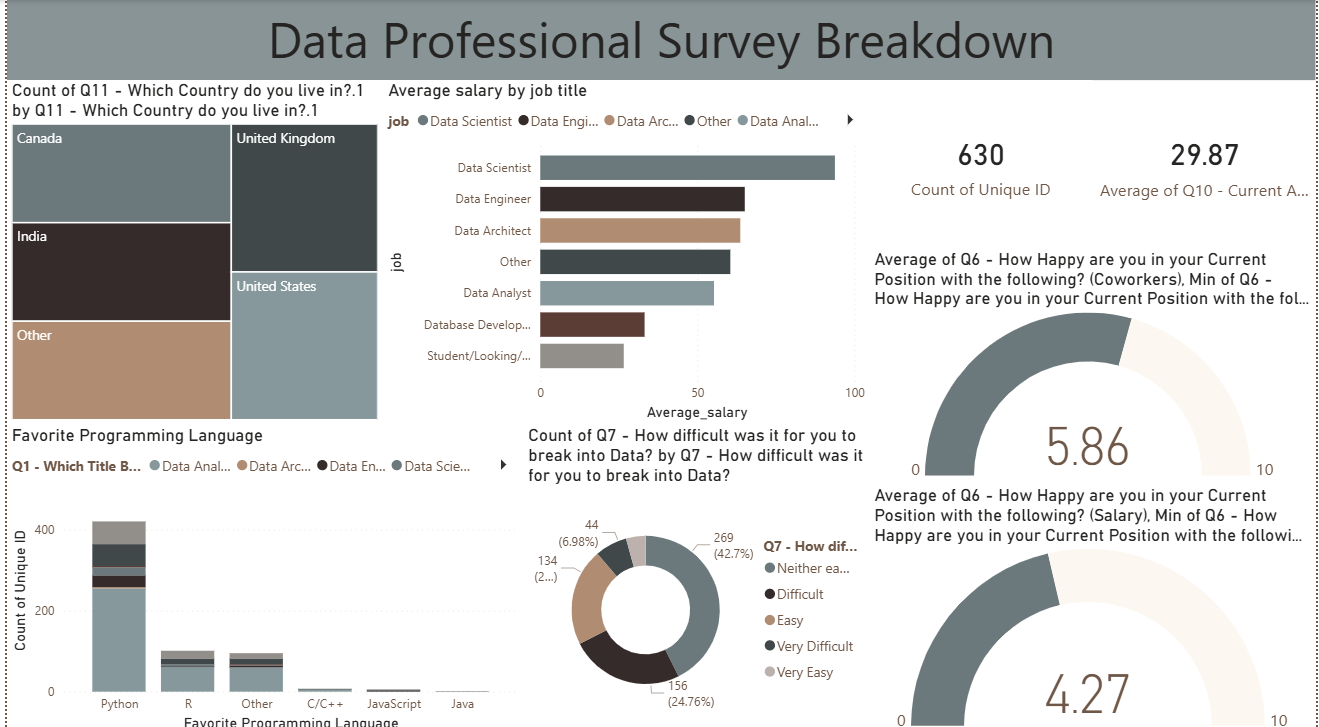

Layout of this report page (visuals, bound fields, positions):
{"tool":"powerbi","page":{"name":"Page 1","canvas":[1280,720],"ordinal":0},"visuals":[{"type":"textbox","box":[0,0,1280.3,78.3],"z":0},{"type":"card","fields":{"Values":["CountNonNull(Data Professional Survey.Unique ID)"]},"box":[843.9,78.2,218.2,164.7],"z":1000},{"type":"card","fields":{"Values":["Avg(Data Professional Survey.Q10 - Current Age)"]},"box":[1062.1,82.3,218.2,157.8],"z":2000},{"type":"barChart","title":"Average salary by job title","fields":{"Category":["Data Professional Survey.Q1 - Which Title Best Fits your Current Role?.1"],"Y":["Avg(Data Professional Survey.Average_salary)"],"Series":["Data Professional Survey.Q1 - Which Title Best Fits your Current Role?.1"]},"box":[367.8,78.2,476.2,337.6],"z":3000},{"type":"columnChart","title":"Favorite Programming Language","fields":{"Category":["Data Professional Survey.Q5 - Favorite Programming Language.1"],"Y":["CountNonNull(Data Professional Survey.Unique ID)"],"Series":["Data Professional Survey.Q1 - Which Title Best Fits your Current Role?.1"]},"box":[0,415.8,505,304.6],"z":4000},{"type":"treemap","fields":{"Group":["Data Professional Survey.Q11 - Which Country do you live in?.1"],"Values":["Count(Data Professional Survey.Q11 - Which Country do you live in?.1)"]},"box":[0,78.2,367.8,337.6],"z":5000},{"type":"gauge","fields":{"Y":["Avg(Data Professional Survey.Q6 - How Happy are you in your Current Position with the following? (Coworkers))"],"MinValue":["Min(Data Professional Survey.Q6 - How Happy are you in your Current Position with the following? (Coworkers))1"],"MaxValue":["Max(Data Professional Survey.Q6 - How Happy are you in your Current Position with the following? (Coworkers))2"]},"box":[843.9,242.9,436.4,231.9],"z":6000},{"type":"gauge","fields":{"Y":["Avg(Data Professional Survey.Q6 - How Happy are you in your Current Position with the following? (Salary))"],"MinValue":["Min(Data Professional Survey.Q6 - How Happy are you in your Current Position with the following? (Salary))"],"MaxValue":["Max(Data Professional Survey.Q6 - How Happy are you in your Current Position with the following? (Salary))1"]},"box":[843.9,474.8,436.4,245.6],"z":7000},{"type":"donutChart","fields":{"Category":["Data Professional Survey.Q7 - How difficult was it for you to break into Data?"],"Y":["CountNonNull(Data Professional Survey.Q7 - How difficult was it for you to break into Data?)"]},"box":[505,415.8,338.9,304.6],"z":8000}]}

Visuals, with their boxes in screenshot pixels (x1, y1, x2, y2), scaled from the page's 1280x720 canvas onto the 1319x727 screenshot:
textbox: x1=0 y1=0 x2=1318 y2=79
card - CountNonNull(Data Professional Survey.Unique ID): x1=870 y1=79 x2=1094 y2=245
card - Avg(Data Professional Survey.Q10 - Current Age): x1=1094 y1=83 x2=1318 y2=242
"Average salary by job title" barChart: x1=379 y1=79 x2=870 y2=420
"Favorite Programming Language" columnChart: x1=0 y1=420 x2=520 y2=726
treemap - Data Professional Survey.Q11 - Which Country do you live in?.1 x Count(Data Professional Survey.Q11 - Which Country do you live in?.1): x1=0 y1=79 x2=379 y2=420
gauge - Avg(Data Professional Survey.Q6 - How Happy are you in your Current Position with the following? (Coworkers)) x Min(Data Professional Survey.Q6 - How Happy are you in your Current Position with the following? (Coworkers))1: x1=870 y1=245 x2=1318 y2=479
gauge - Avg(Data Professional Survey.Q6 - How Happy are you in your Current Position with the following? (Salary)) x Min(Data Professional Survey.Q6 - How Happy are you in your Current Position with the following? (Salary)): x1=870 y1=479 x2=1318 y2=726
donutChart - Data Professional Survey.Q7 - How difficult was it for you to break into Data? x CountNonNull(Data Professional Survey.Q7 - How difficult was it for you to break into Data?): x1=520 y1=420 x2=870 y2=726
